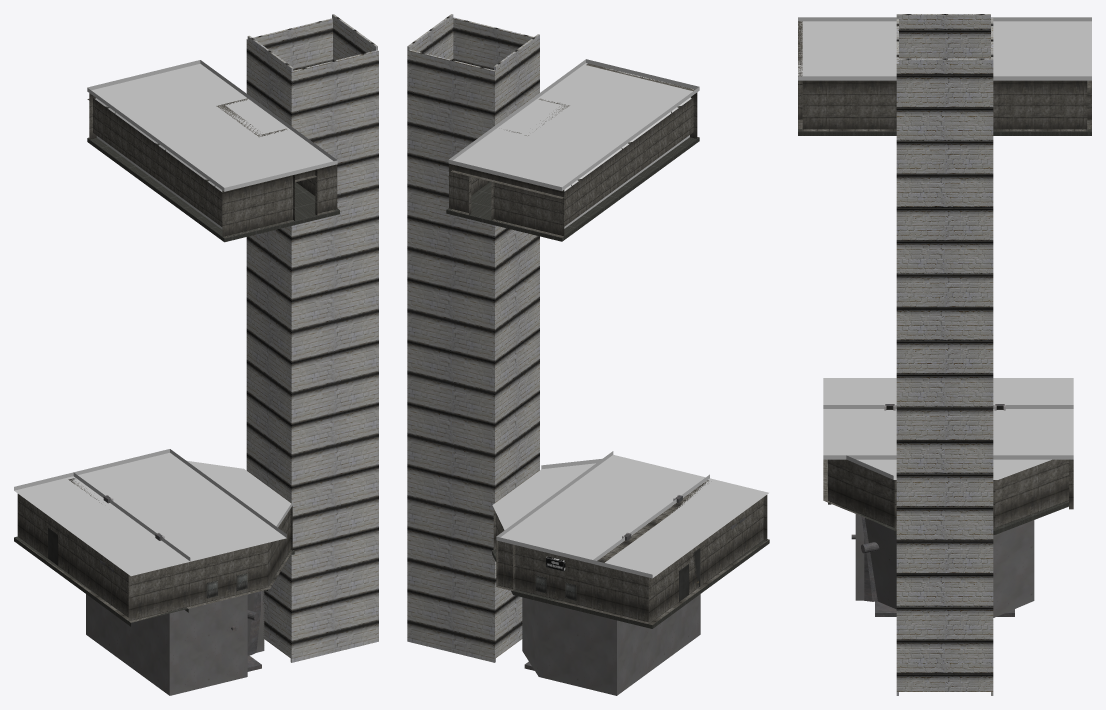
File: HC_room2_nuke.gltf
The picture shows the model from 3 angles, left to right: view 1: azimuth 30°, elevation 25°; view 2: azimuth 150°, elevation 25°; view 3: azimuth 270°, elevation 25°; orthographic projection. The views are drawn at different scales.
Parts seen in each view (by area): view 1: HC_room2_nuke; view 2: HC_room2_nuke; view 3: HC_room2_nuke.
Part boxes in pixels (box(x1,y1,x2,y2)): HC_room2_nuke: box(14, 14, 378, 695); HC_room2_nuke: box(407, 14, 769, 695); HC_room2_nuke: box(798, 14, 1091, 695).
Size of the model in its own units: 24.32 by 48.96 by 20.48.
